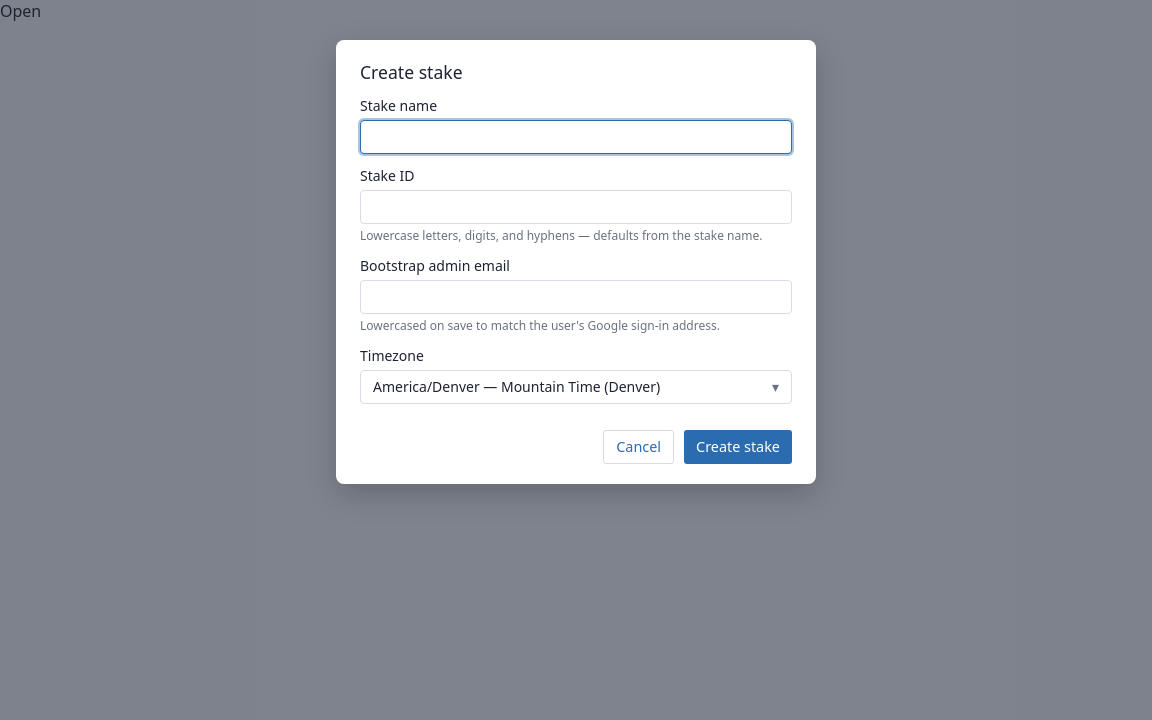
Scenario: <CreateStakeForm /> › blocks submit when bootstrap_admin_email is empty (zod resolver)
This screenshot has width=1152, height=720.
In the field with test id "create-stake-name": (576, 136) [360,120,792,154], type "Cottonwood South Stake"
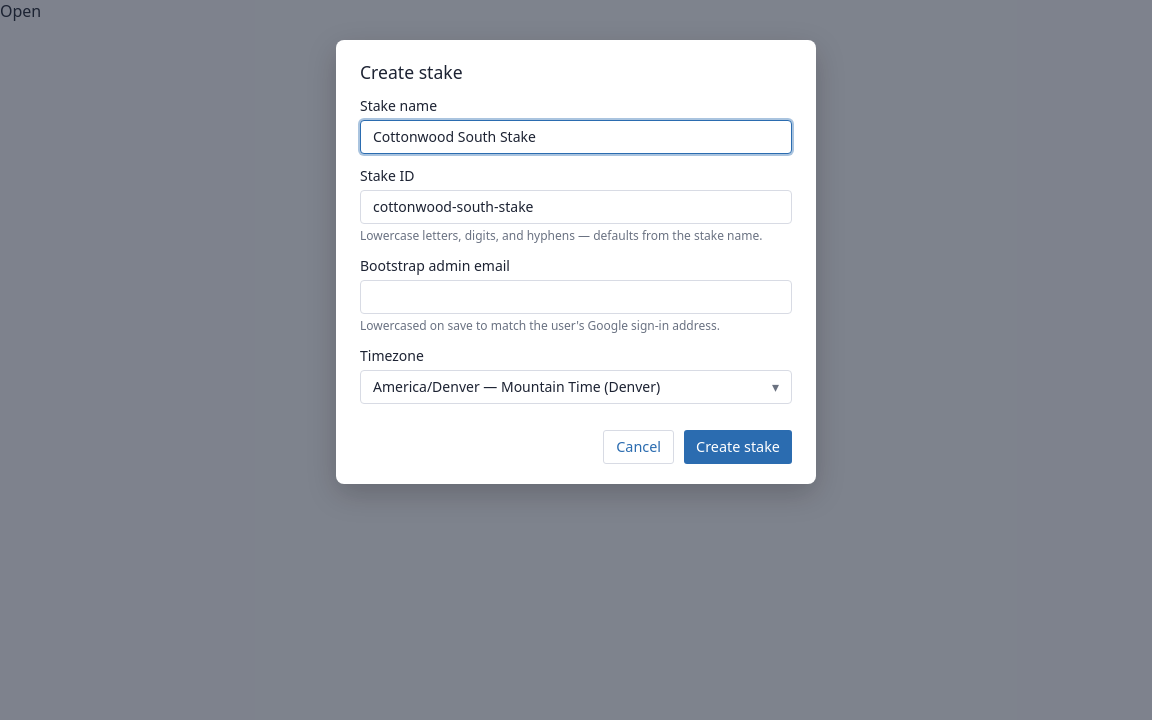
Click the button with test id "create-stake-submit": click(738, 447) [684,430,792,464]
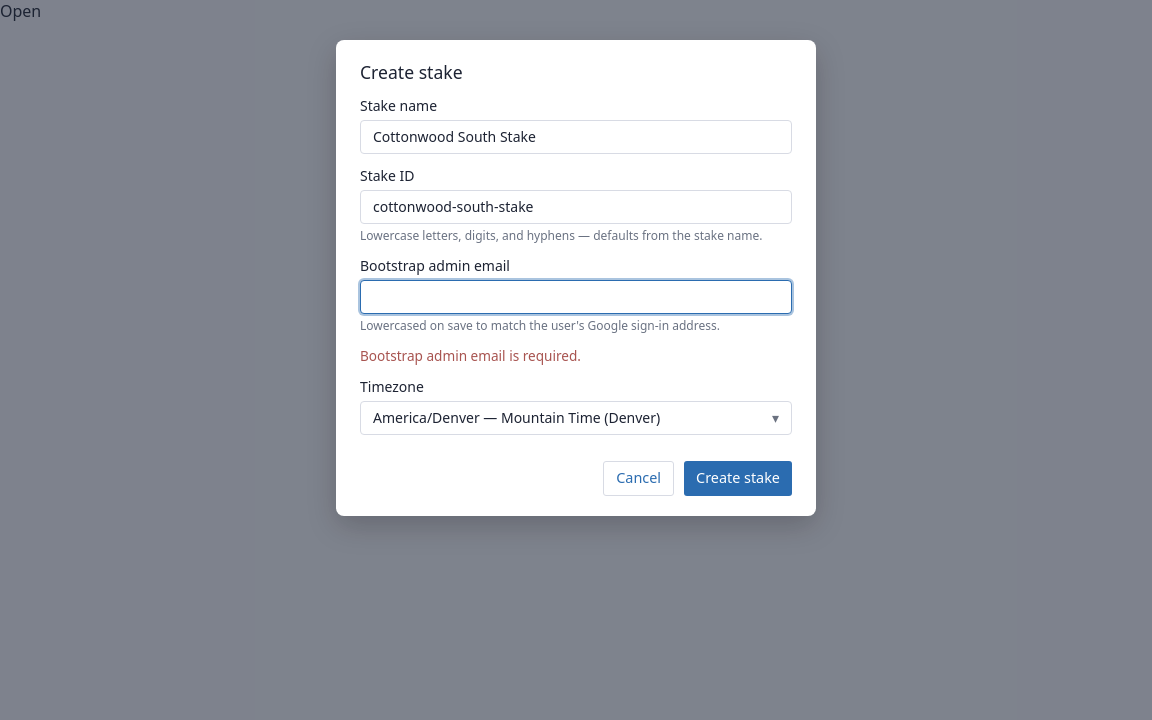
Now the message with test id "create-stake-email-error" shows "Bootstrap admin email is required", box [360,346,581,364]
